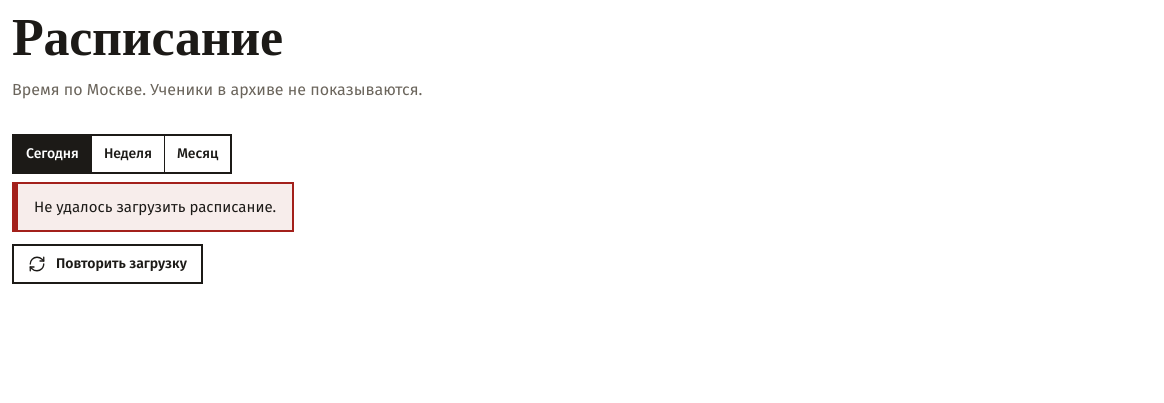
Test case: Teacher schedule › explains a failed read in Russian and retries it
Click the button "Повторить загрузку". click: (107, 264)
box: left=12, top=244, right=203, bottom=284
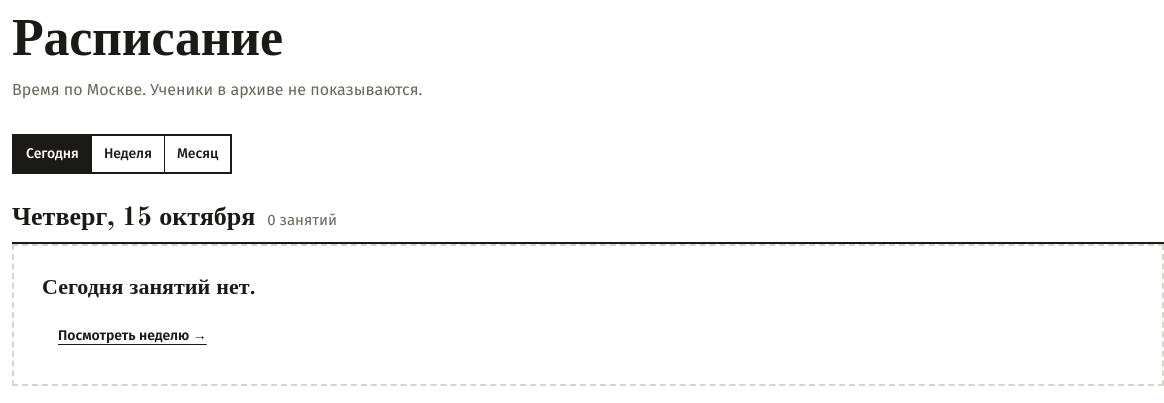
Check: the text "Не удалось загрузить расписание." is gone
